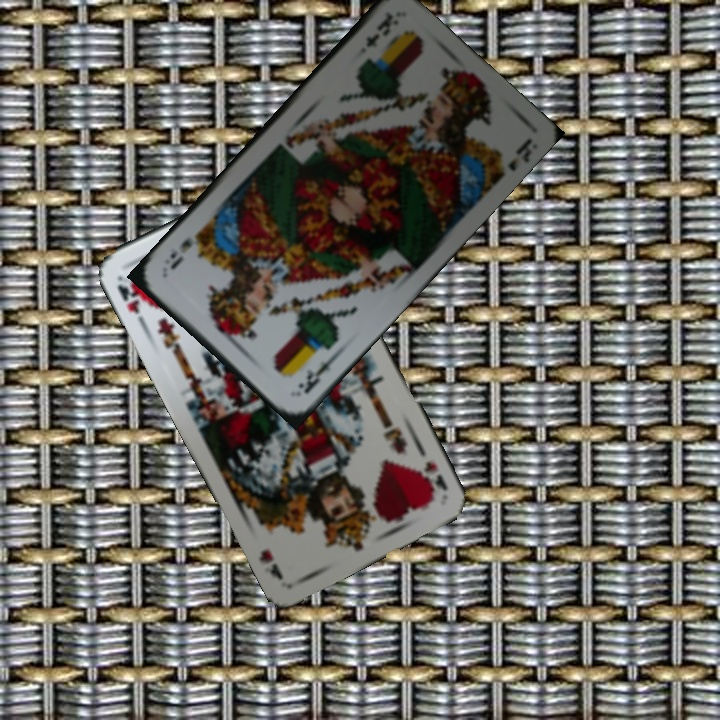EK: (294, 350, 340, 397), (362, 7, 396, 50)
HK: (113, 271, 148, 329), (419, 456, 451, 495)
